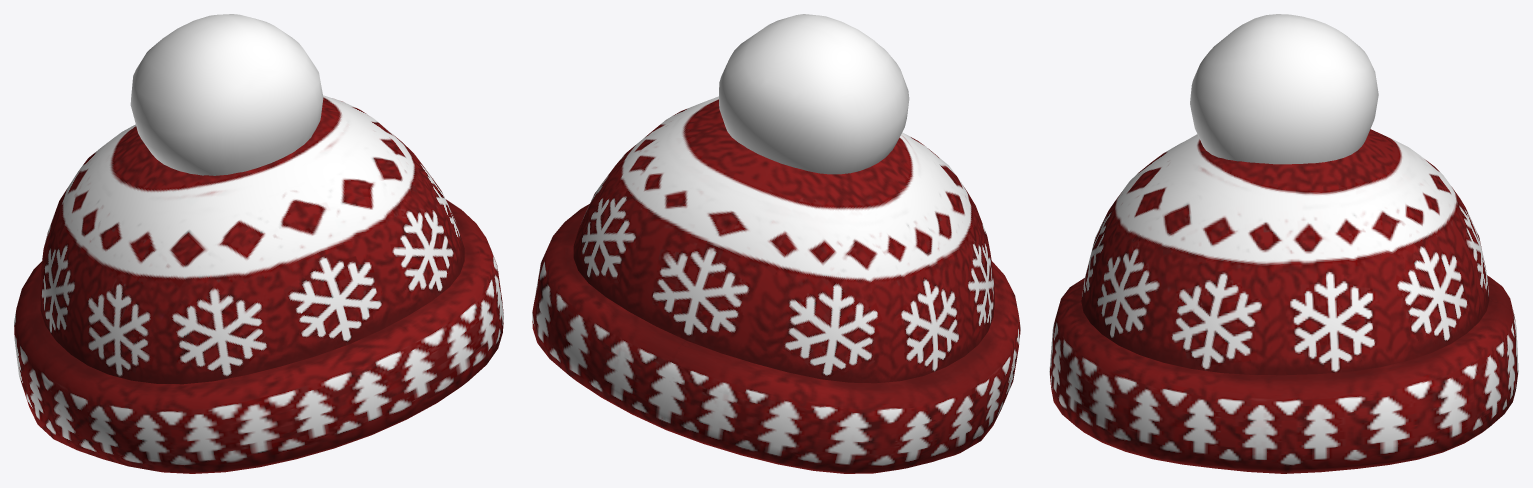
Rendered from doodad_winter_hat.fbx.
The picture shows the model from 3 angles, left to right: view 1: azimuth 30°, elevation 25°; view 2: azimuth 150°, elevation 25°; view 3: azimuth 270°, elevation 25°; orthographic projection. The views are drawn at different scales.
Visible parts, largest first — view 1: doodad_winter_hat; view 2: doodad_winter_hat; view 3: doodad_winter_hat.
Boxes of the visible parts, x1,y1,x2,y2 form: doodad_winter_hat: [14, 14, 503, 473]; doodad_winter_hat: [532, 14, 1020, 473]; doodad_winter_hat: [1049, 14, 1518, 473].
Size of the model in its own units: 0.223 by 0.192 by 0.2064.
